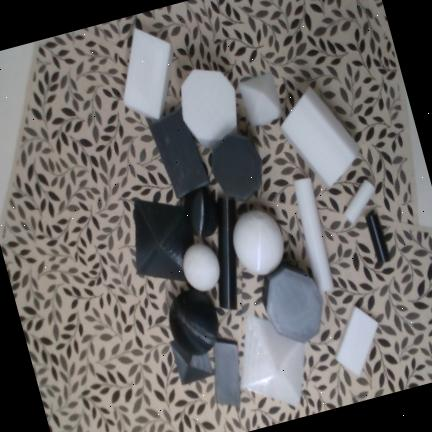Cilindro: (293, 177, 334, 293), (218, 197, 237, 309), (344, 179, 376, 224), (365, 213, 391, 263)
Esfera: (233, 210, 283, 275), (169, 289, 218, 355), (183, 187, 219, 237), (183, 243, 219, 291)
Paralelepipedo: (149, 108, 210, 199), (123, 27, 173, 120), (334, 304, 379, 376), (213, 338, 240, 406)
Piramide: (240, 314, 305, 407), (135, 199, 194, 282), (238, 73, 283, 127), (170, 339, 214, 385)
Prisma_hexagonal: (279, 84, 361, 189), (262, 263, 323, 342), (180, 68, 237, 148), (211, 132, 262, 201)
